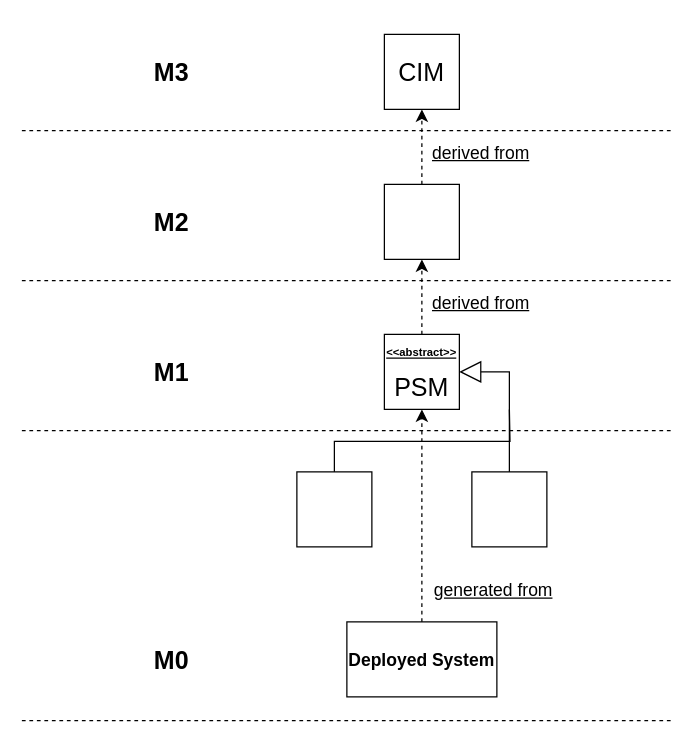
This 695x744 diagram has some shape labels left out. The centre of each missing label's shape, as x and y in pixels:
PIM: point (421, 221)
PSM for C++: point (334, 509)
PSM for Java: point (509, 509)
